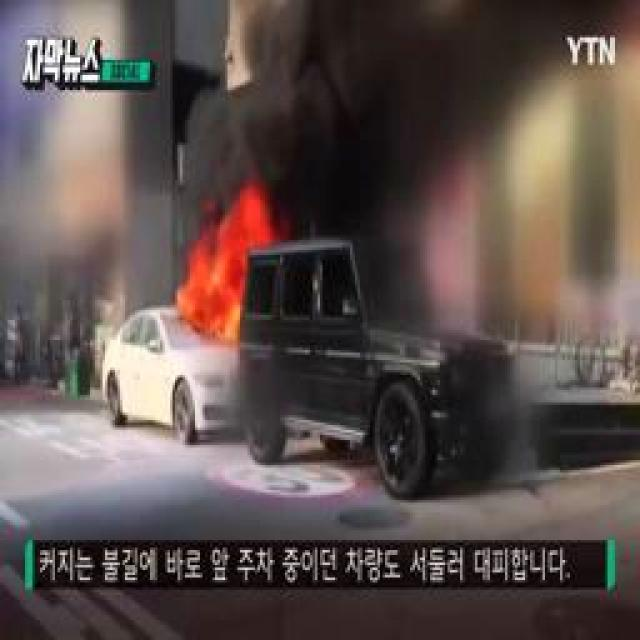Fire: (173, 217, 256, 340)
